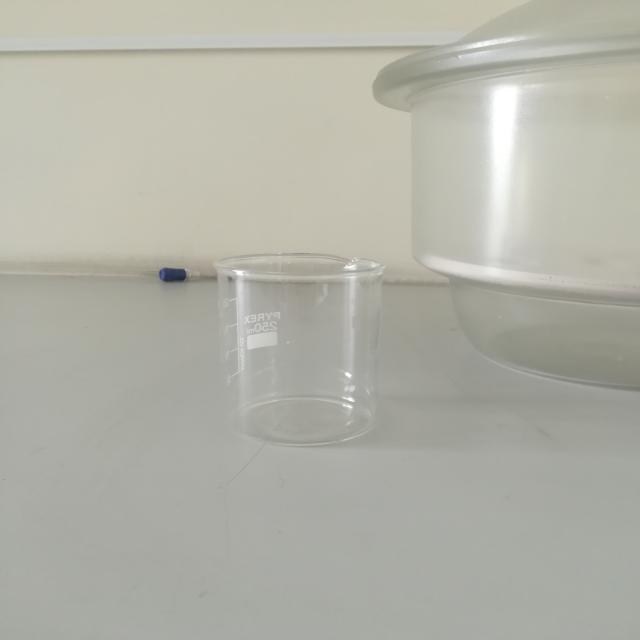Beaker: (174, 213, 430, 482)
